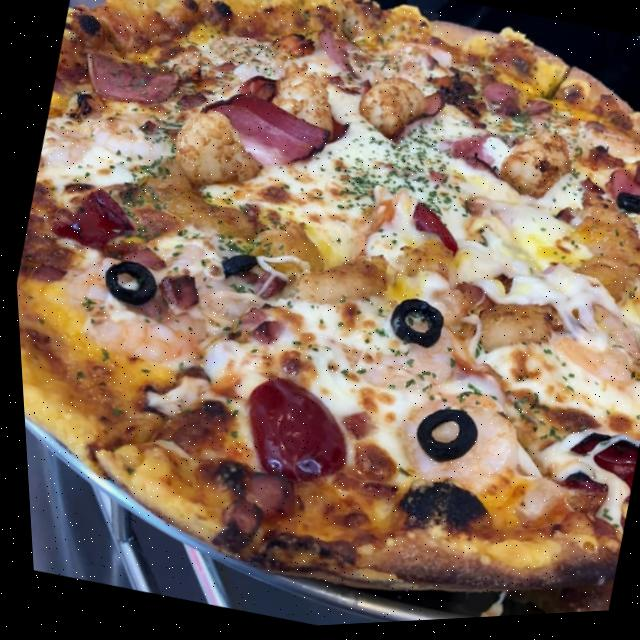black_olives: (402, 404, 479, 476), (379, 296, 446, 357), (94, 255, 160, 314), (212, 249, 257, 289), (610, 196, 640, 226), (636, 327, 640, 357)
pizza: (0, 0, 640, 640)
